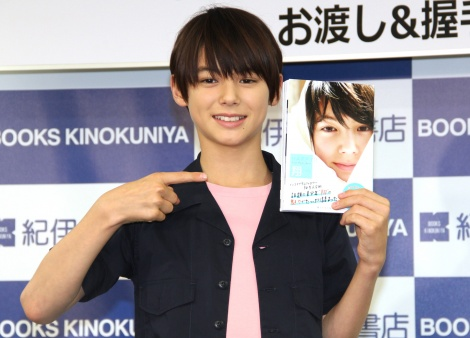face: (171, 43, 280, 146), (306, 100, 372, 181)
hand: (93, 172, 208, 229), (331, 188, 390, 263)
